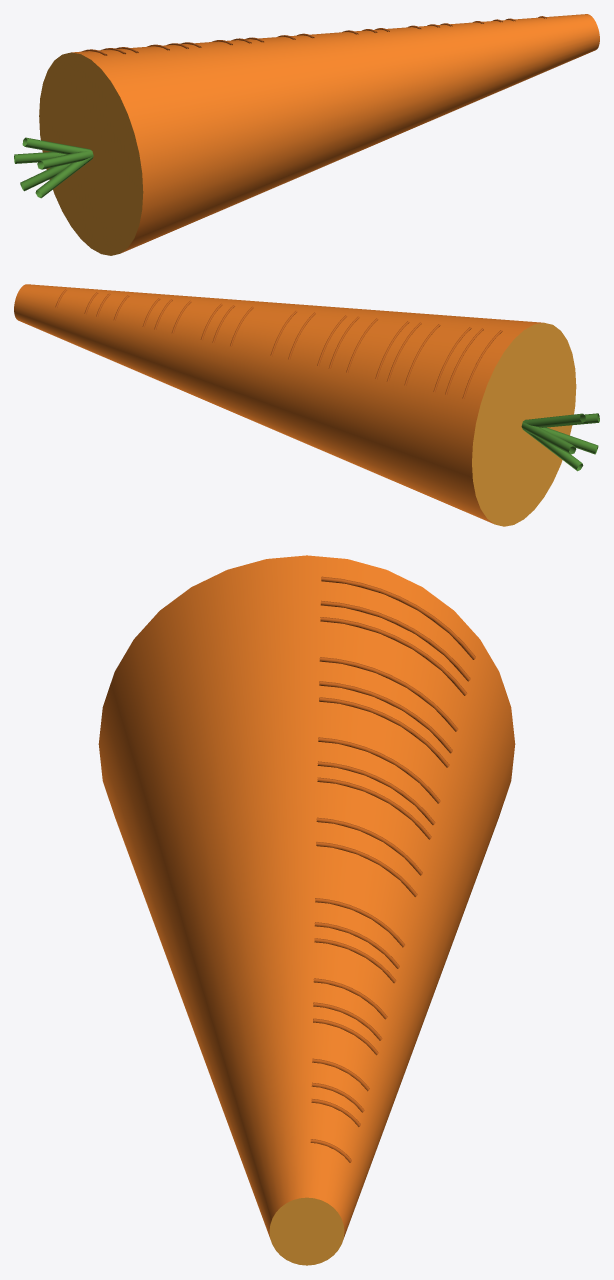
Rendered from carrot.glb.
The picture shows the model from 3 angles, top to bottom: view 1: azimuth 30°, elevation 25°; view 2: azimuth 150°, elevation 25°; view 3: azimuth 270°, elevation 25°; orthographic projection. The views are drawn at different scales.
Visible parts, largest first — view 1: carrot_halfA_geometry, carrot_whole_geometry, carrot_halfB_geometry; view 2: carrot_halfA_geometry, carrot_whole_geometry, carrot_halfB_geometry; view 3: carrot_halfA_geometry, carrot_whole_geometry, carrot_halfB_geometry.
Boxes of the visible parts, x1,y1,x2,y2 form: carrot_halfA_geometry: (14, 33, 371, 255); carrot_whole_geometry: (73, 19, 599, 252); carrot_halfB_geometry: (330, 14, 599, 151); carrot_halfA_geometry: (243, 303, 599, 526); carrot_whole_geometry: (14, 293, 533, 523); carrot_halfB_geometry: (14, 284, 284, 421); carrot_halfA_geometry: (98, 555, 515, 1017); carrot_whole_geometry: (99, 555, 514, 1236); carrot_halfB_geometry: (184, 876, 429, 1265).
Bounding box in the file's own units: 0.8122 × 0.26 × 0.26.
